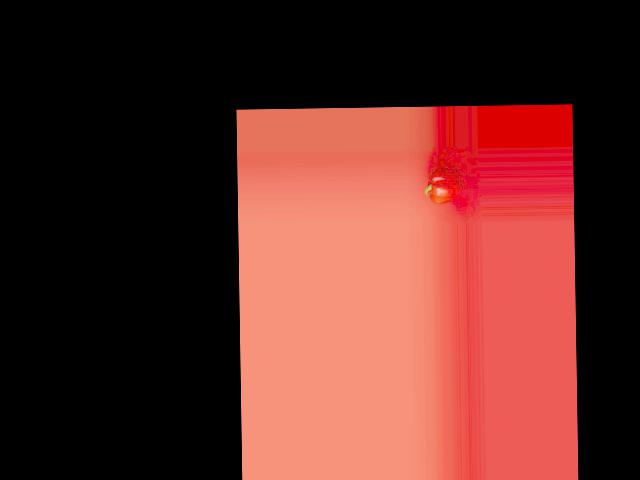bell_pepper: (423, 165, 465, 202)
